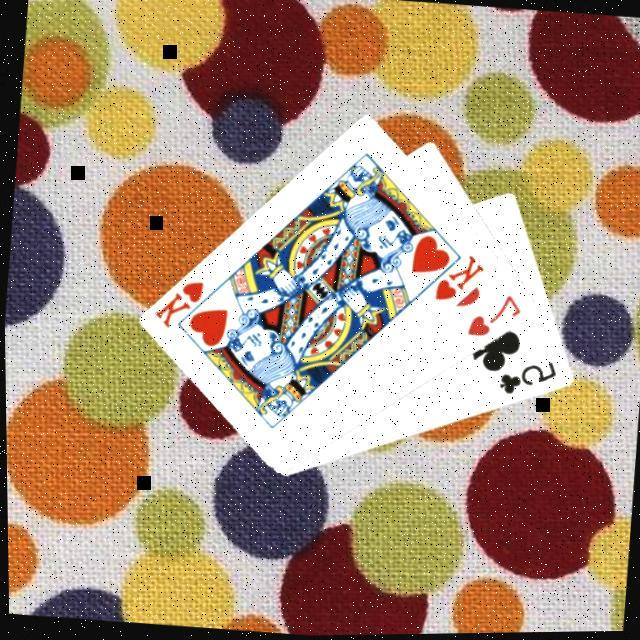5C: (492, 354, 558, 402)
7H: (459, 288, 523, 344)
KH: (427, 248, 487, 308), (147, 272, 205, 334)
